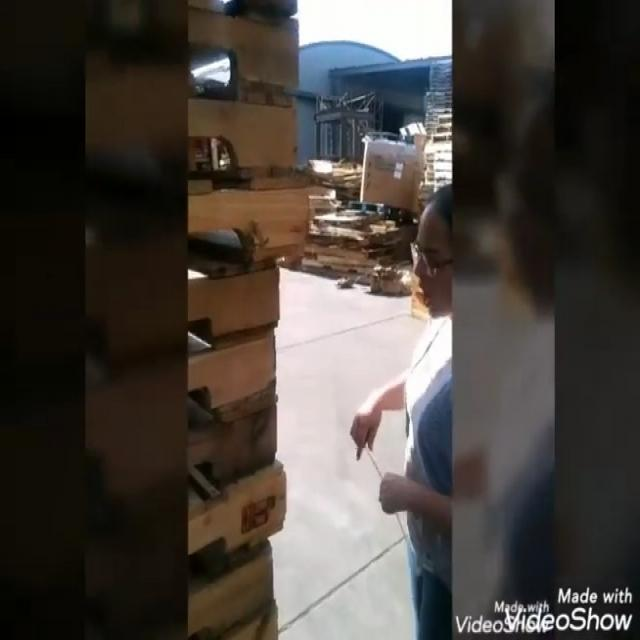Palette: (182, 0, 310, 640), (424, 61, 458, 195)
